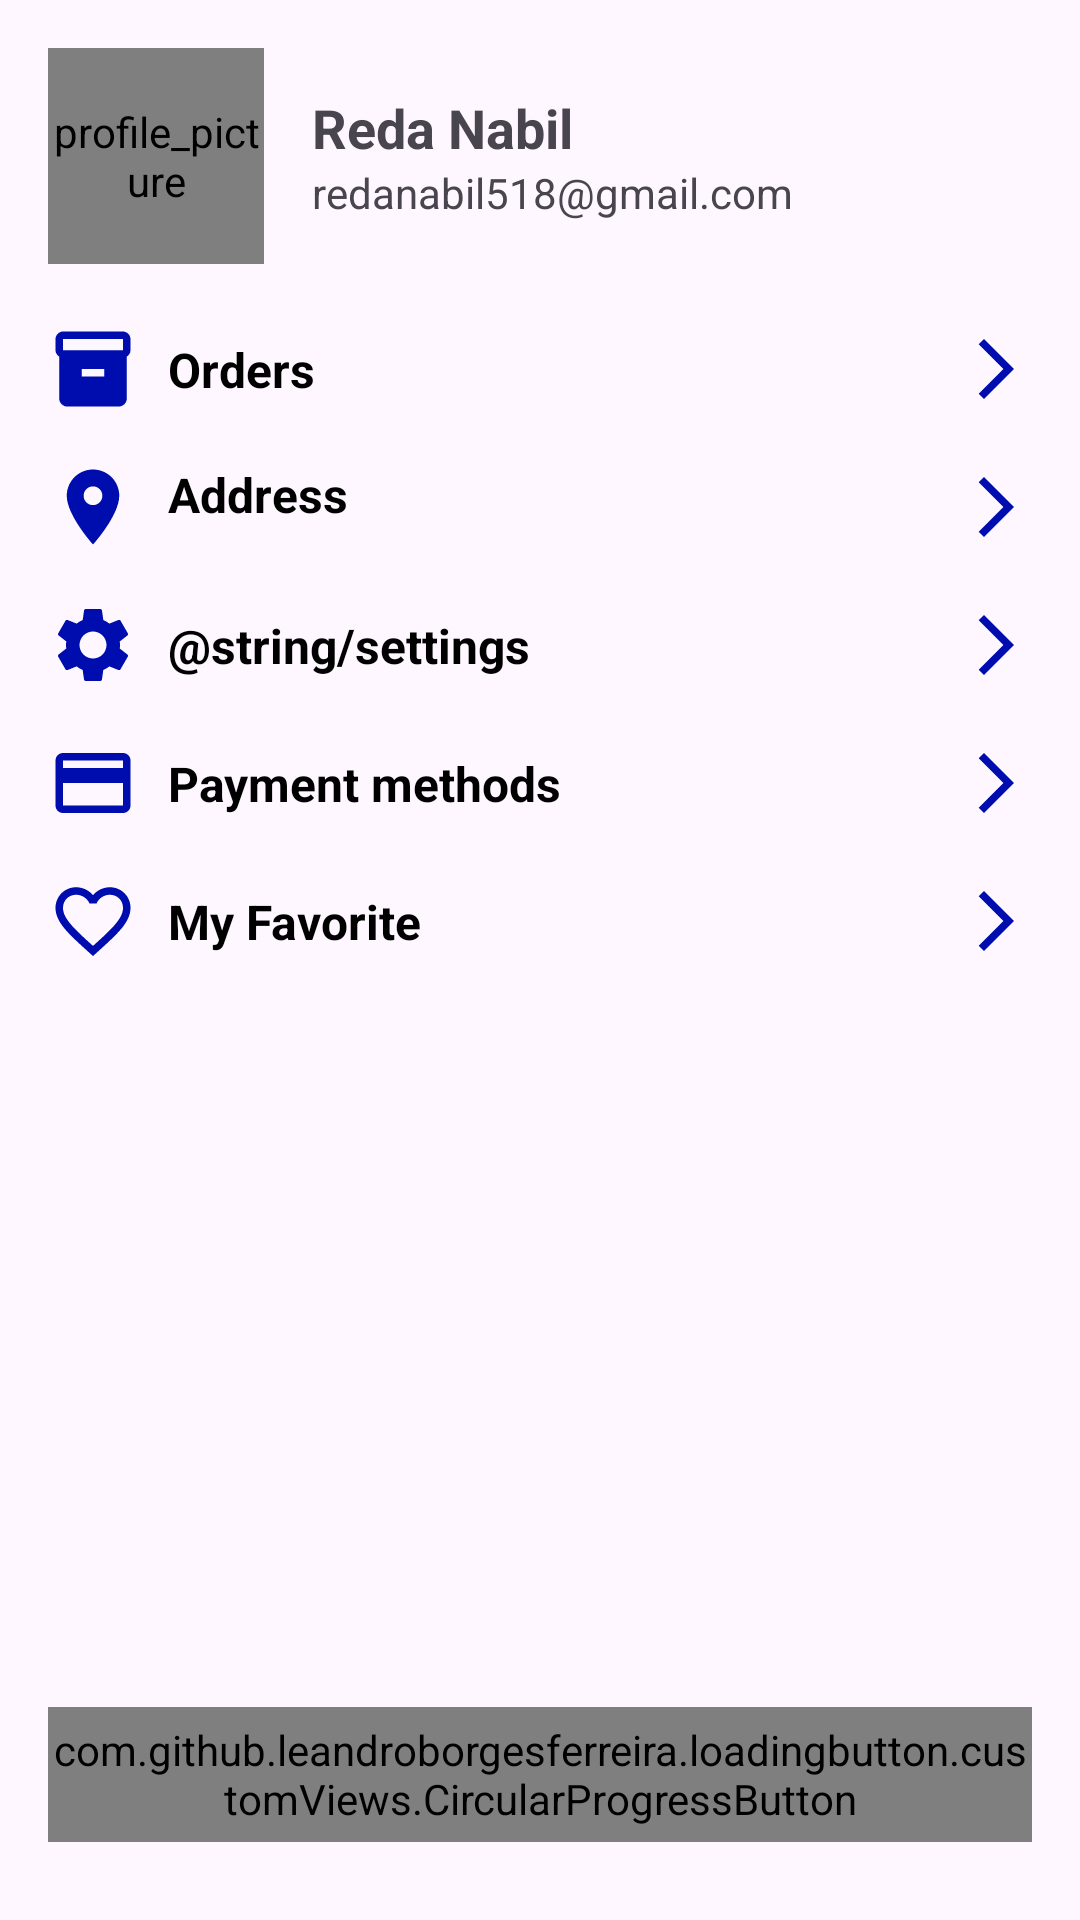

Named icons in this screenshot (1080px×1920px) and their centers, (x=x, y=y):
Arrow Forward: (x=996, y=369), (x=996, y=507), (x=996, y=645), (x=996, y=783), (x=996, y=921)
